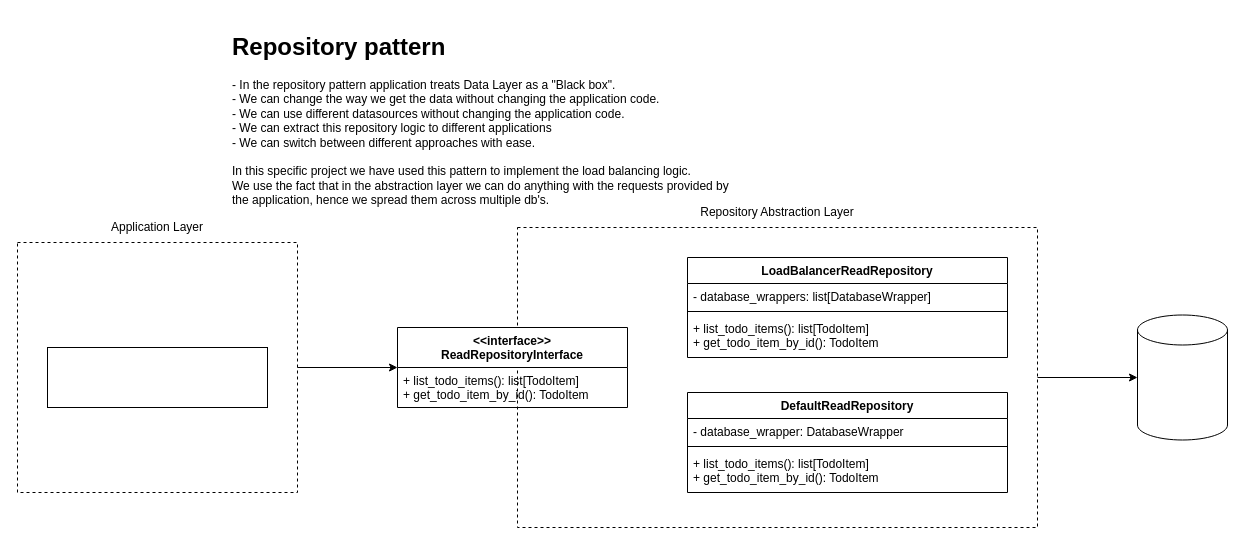
The diagram is 1245 pixels wide and 545 high, and some of its shapes have lost their labels. Each missing label, with the centre of its shape:
"CommandHandlers" goes at point 157,377.
"Database" goes at point 1182,377.
